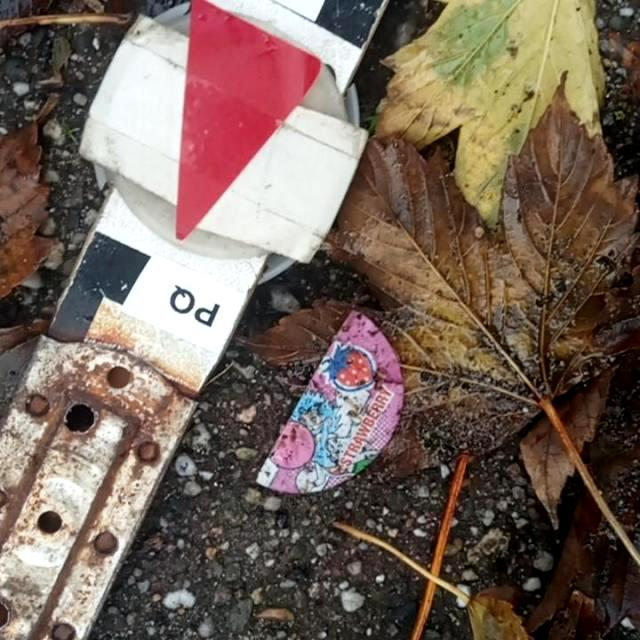Paper: (254, 307, 406, 497)
